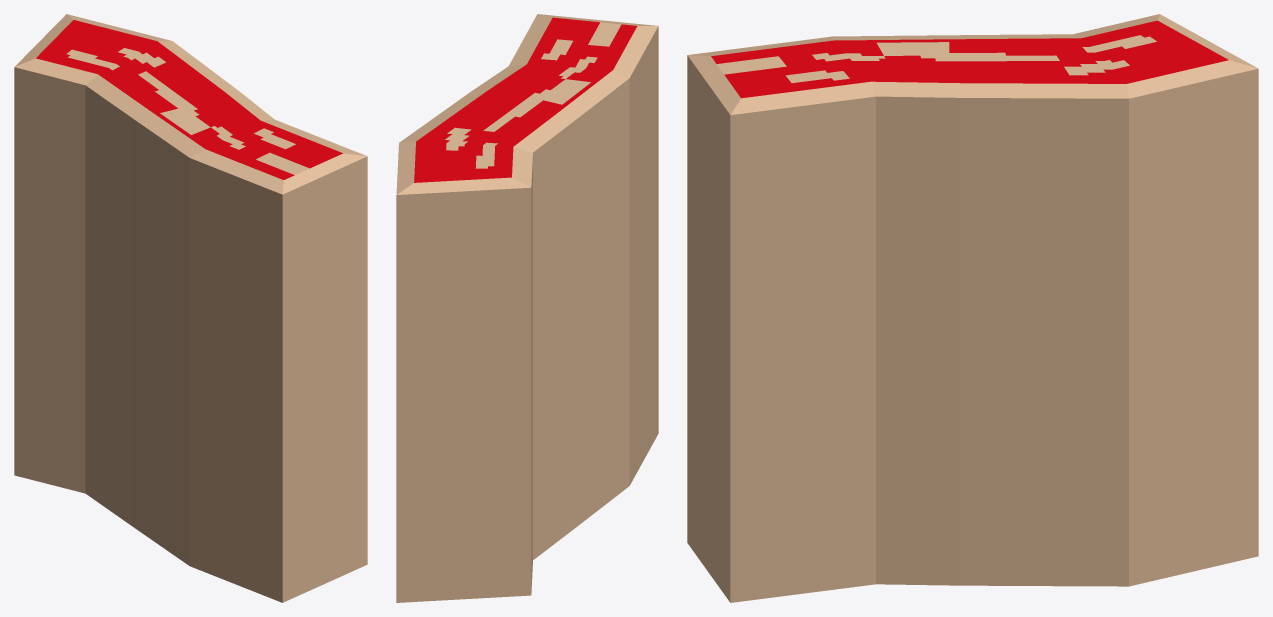
Rendered from meat_uncooked.fbx.
3 renders of one model, left to right at view 1: azimuth 30°, elevation 25°; view 2: azimuth 150°, elevation 25°; view 3: azimuth 270°, elevation 25°, orthographic. The views are drawn at different scales.
Visible parts, largest first — view 1: Cube; view 2: Cube; view 3: Cube.
Part boxes in pixels (x1=…): Cube: x1=14, y1=14, x2=367, y2=602; Cube: x1=396, y1=14, x2=658, y2=602; Cube: x1=687, y1=14, x2=1258, y2=602.
Size of the model in its own units: 194 by 446 by 463.
